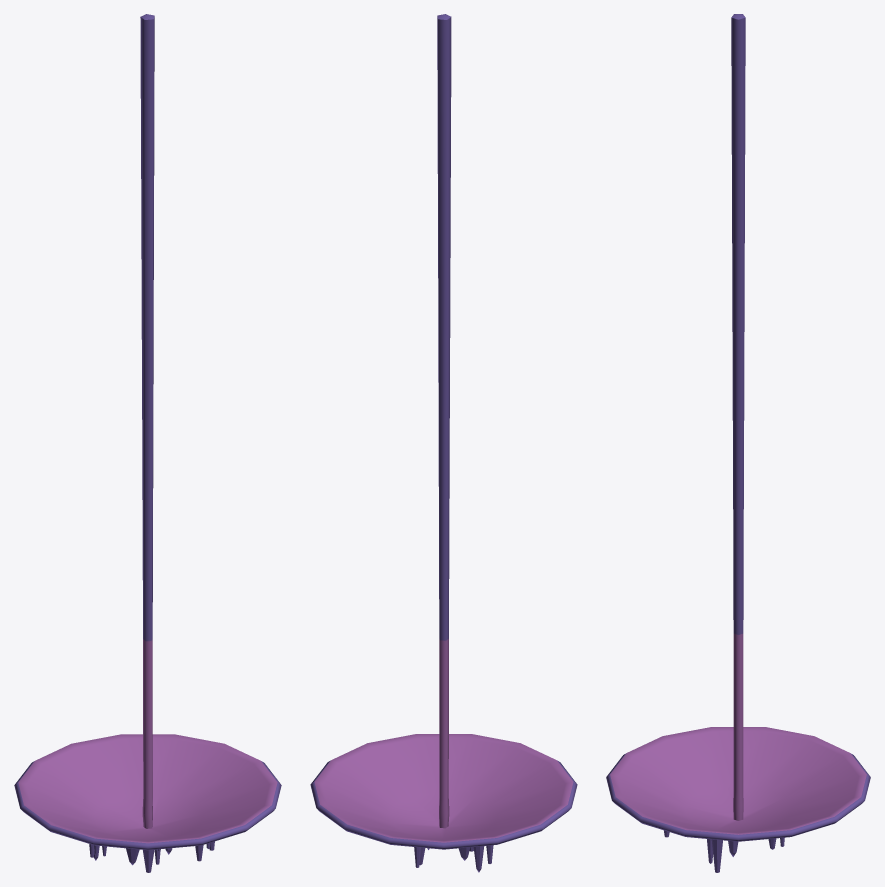
The model's file is MD_MushLight_02_02.fbx.
3 renders of one model, left to right at view 1: azimuth 30°, elevation 25°; view 2: azimuth 150°, elevation 25°; view 3: azimuth 270°, elevation 25°, orthographic.
Parts seen in each view (by area): view 1: Mushroomlight02; view 2: Mushroomlight02; view 3: Mushroomlight02.
Part boxes in pixels (left/top/right/bottom): Mushroomlight02: left=14, top=14, right=281, bottom=872; Mushroomlight02: left=310, top=14, right=577, bottom=872; Mushroomlight02: left=606, top=14, right=870, bottom=872.
Size of the model in its own units: 515 by 1804 by 518.
Materials: 1 (1 with a texture image).
